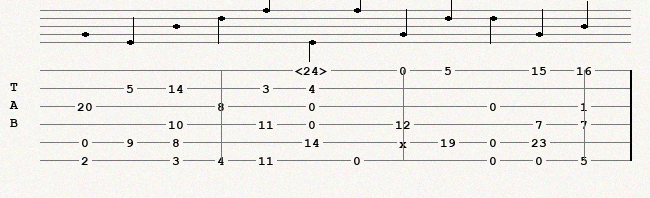0: (81, 136, 93, 148), (308, 100, 320, 112), (308, 118, 320, 130), (353, 154, 365, 166), (399, 64, 411, 76), (489, 154, 501, 166), (489, 136, 501, 148), (489, 100, 501, 112), (535, 154, 547, 166)
1: (580, 100, 592, 112)
10: (168, 118, 188, 130)
11: (258, 154, 278, 166), (258, 118, 278, 130)
12: (395, 118, 415, 130)
14: (168, 82, 188, 94), (304, 136, 324, 148)
15: (531, 64, 551, 76)
16: (576, 64, 596, 76)
19: (440, 136, 460, 148)
2: (81, 154, 93, 166)
20: (77, 100, 97, 112)
23: (531, 136, 551, 148)
3: (172, 154, 184, 166), (262, 82, 274, 94)
4: (217, 154, 229, 166), (308, 82, 320, 94)
5: (126, 82, 138, 94), (444, 64, 456, 76), (580, 154, 592, 166)
7: (535, 118, 547, 130), (580, 118, 592, 130)
8: (172, 136, 184, 148), (217, 100, 229, 112)
9: (126, 136, 138, 148)
harmonic: (295, 64, 332, 76)
x: (399, 137, 411, 147)
